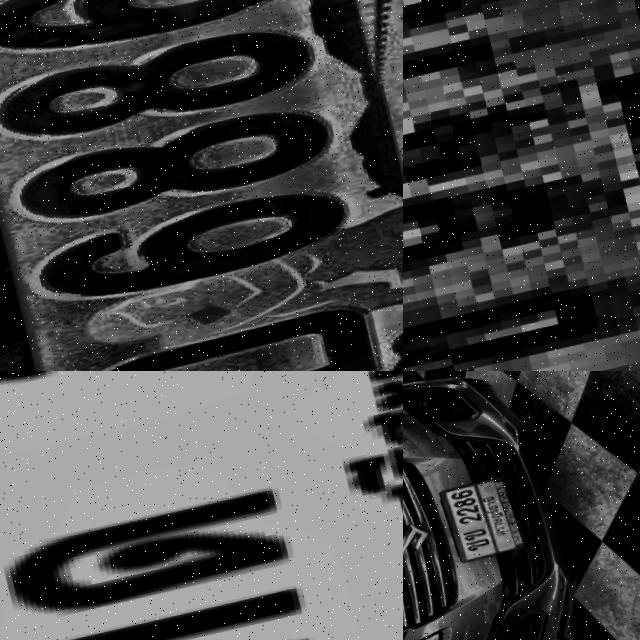license-plate: (0, 0, 403, 371), (0, 371, 403, 640), (403, 0, 640, 371), (434, 479, 520, 572)
